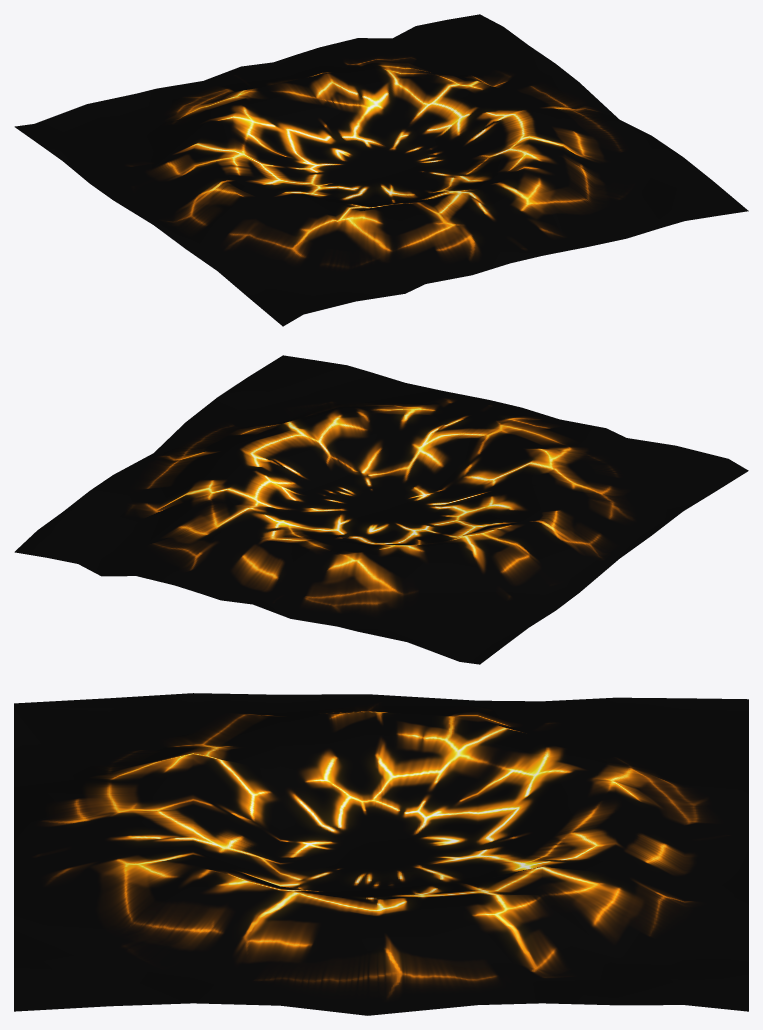
File: SM_Crack_Bear_AS.fbx
3 renders of one model, top to bottom at view 1: azimuth 30°, elevation 25°; view 2: azimuth 150°, elevation 25°; view 3: azimuth 270°, elevation 25°, orthographic. The views are drawn at different scales.
Parts seen in each view (by area): view 1: pPlane1; view 2: pPlane1; view 3: pPlane1.
Part boxes in pixels (x1,y1,x2,y2): pPlane1: [14, 14, 748, 326]; pPlane1: [14, 355, 748, 664]; pPlane1: [14, 693, 748, 1015].
Bounding box in the file's own units: 100 × 6.88 × 100.
